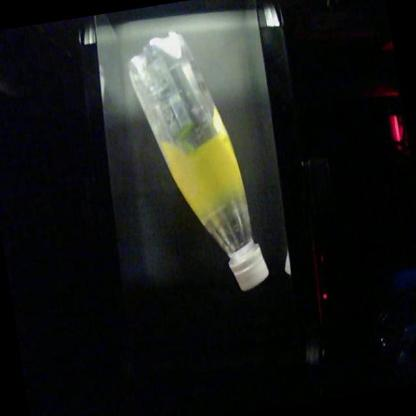Plastic Bottle: (126, 31, 276, 297)
